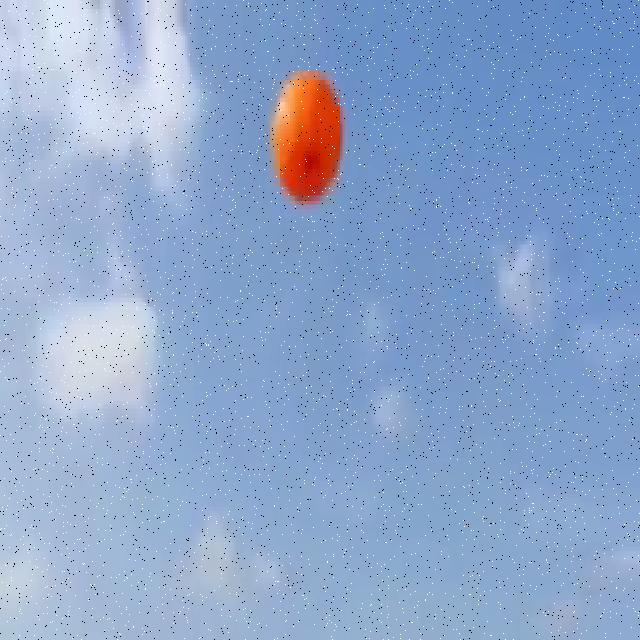red: (269, 68, 342, 205)
